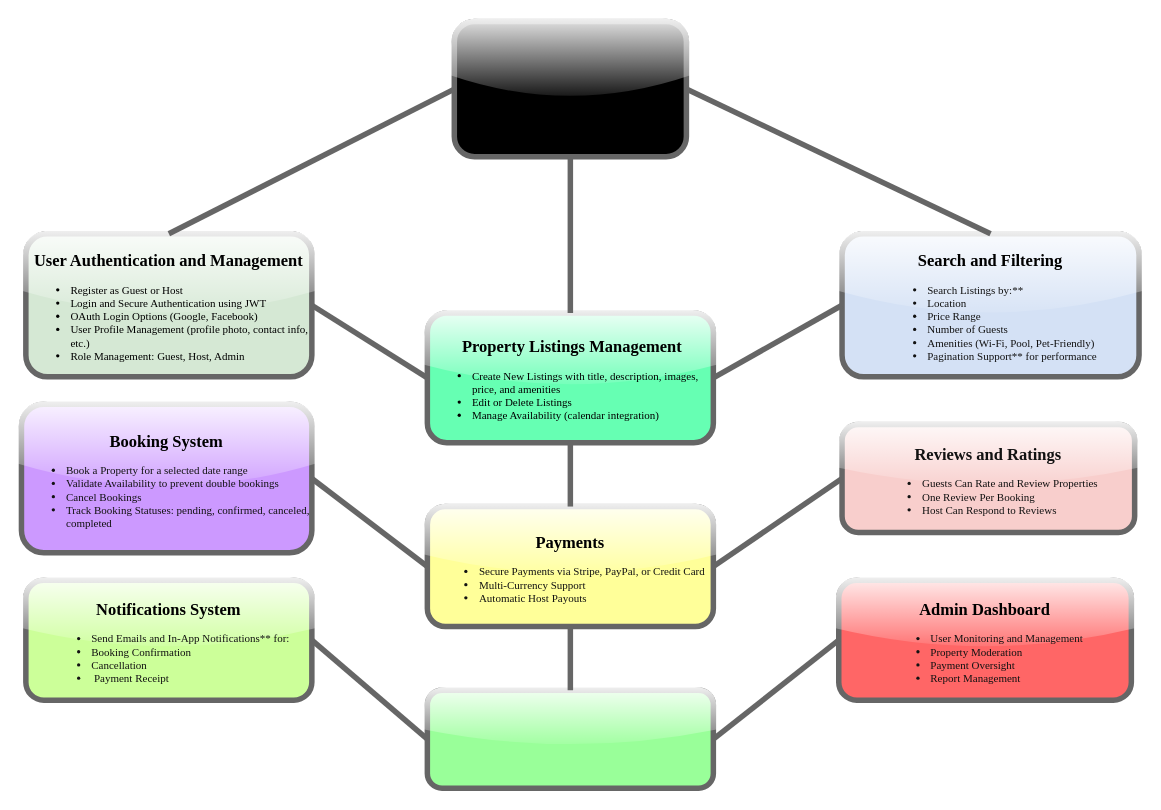
Some shapes in this 1161 by 810 pixel diagram are drawn without their labels. The shapes that lost their labels are listed below. From the top down, each one's centre as x and y in pixels, then its label:
At point 570,88: "Airbnb Clone Backend".
At point 570,738: "Messaging Direct Messaging Between Guests and Hosts Inbox Interface for Users".
